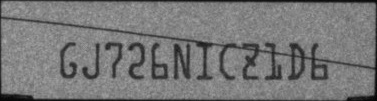1: (264, 40, 283, 81)
2: (127, 41, 144, 80)
6: (310, 41, 329, 80), (150, 41, 168, 80)
7: (105, 41, 123, 79)
C: (218, 41, 236, 80)
D: (288, 41, 306, 81)
G: (59, 41, 79, 79)
I: (196, 41, 212, 81)
J: (81, 40, 100, 80)
N: (172, 41, 192, 79)
Z: (240, 41, 259, 80)
